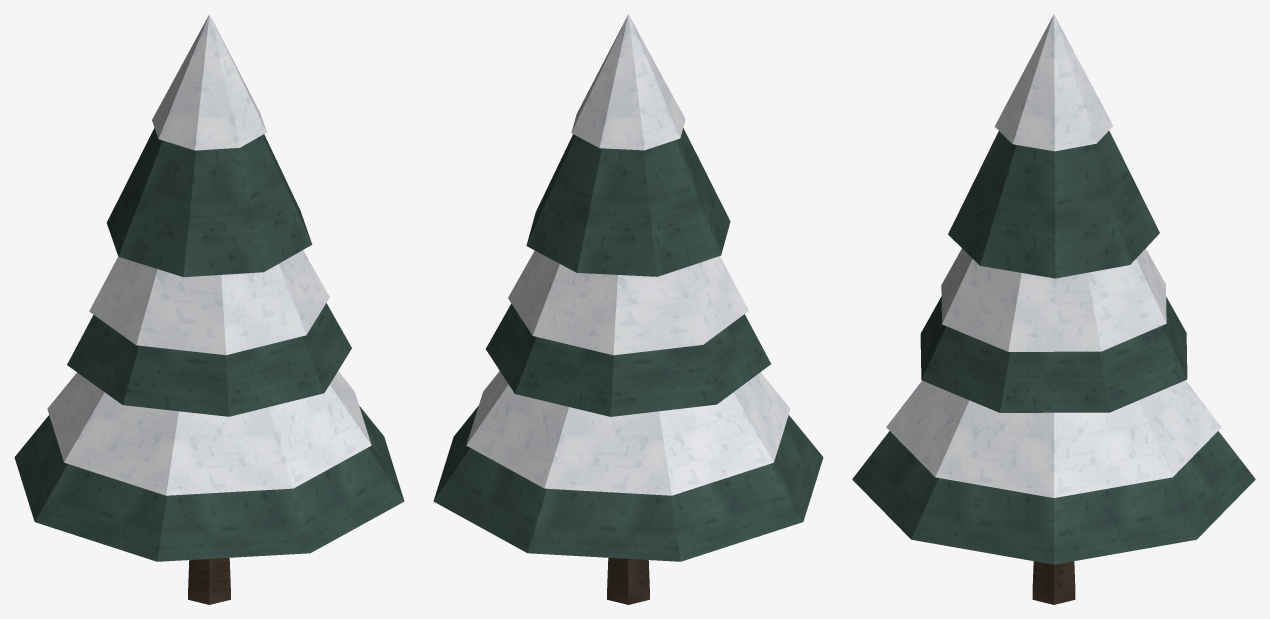
The model's file is snowpine_tree_b.glb.
3 views of the same model, side by side, from view 1: azimuth 30°, elevation 25°; view 2: azimuth 150°, elevation 25°; view 3: azimuth 270°, elevation 25° (orthographic).
Parts seen in each view (by area): view 1: SnowpineTreeB; view 2: SnowpineTreeB; view 3: SnowpineTreeB.
Boxes of the visible parts, x1,y1,x2,y2 form: SnowpineTreeB: (14, 14, 404, 604); SnowpineTreeB: (433, 14, 823, 604); SnowpineTreeB: (852, 14, 1255, 604).
Bounding box in the file's own units: 3.2 × 5.08 × 3.2.
3 materials, 3 textured.
